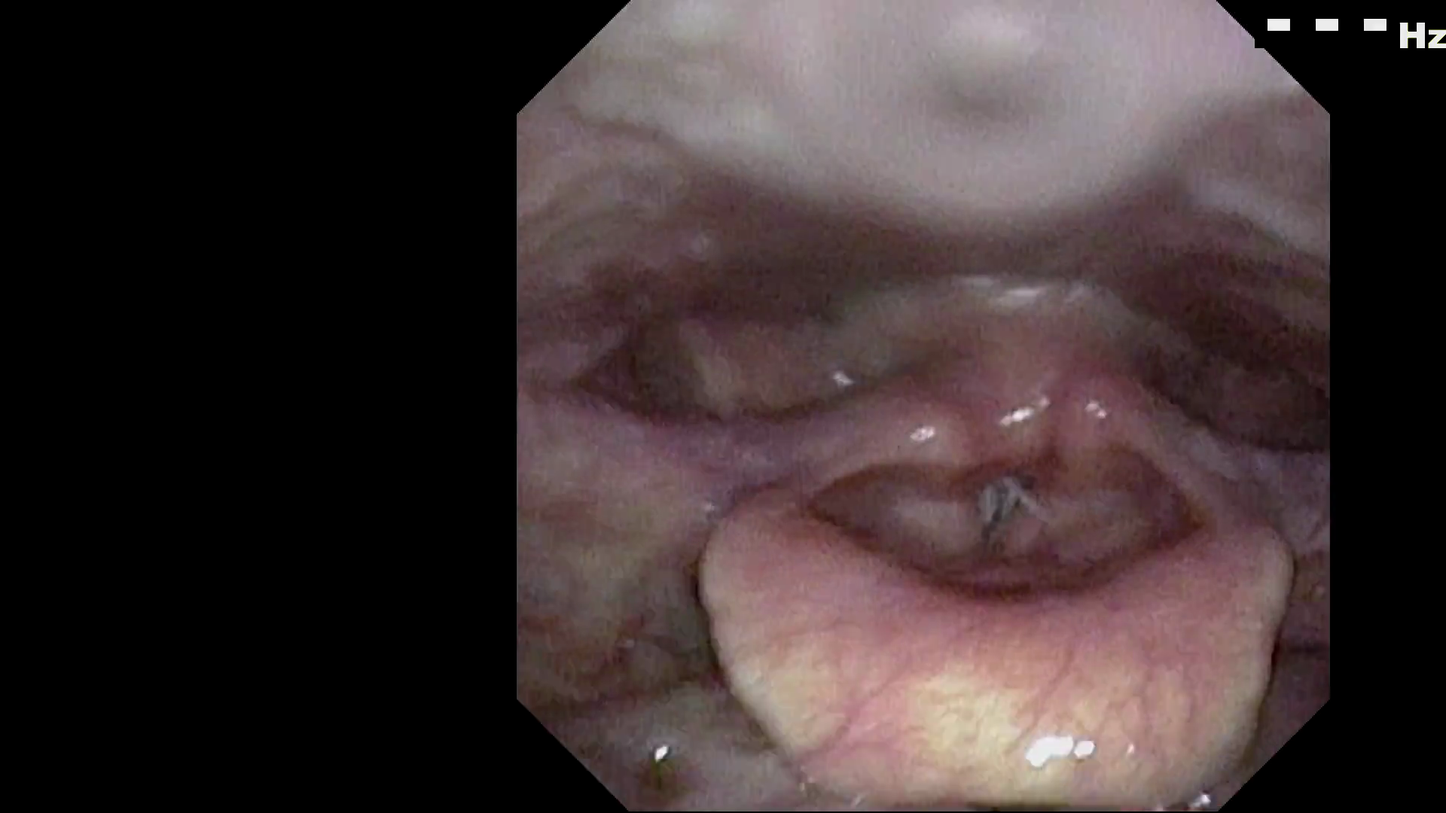epiglottis: (666, 500, 1284, 780)
trachea: (945, 492, 1028, 582)
